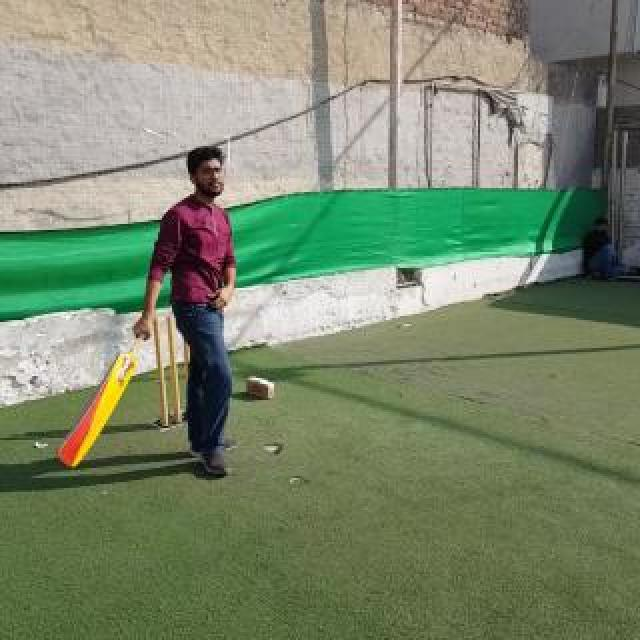bat: (58, 332, 146, 468)
